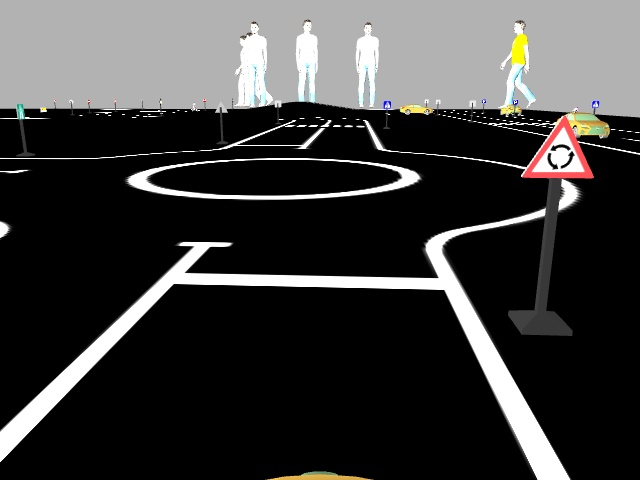Roundabout: (519, 116, 594, 179)
